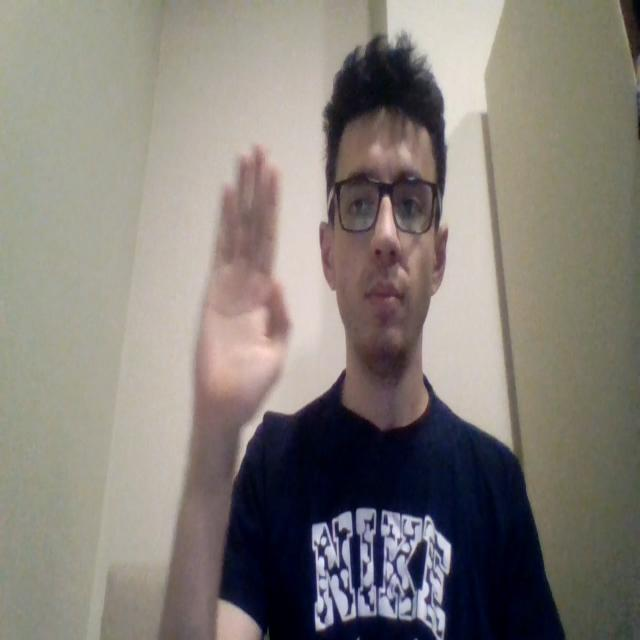hello: (191, 142, 293, 436)
